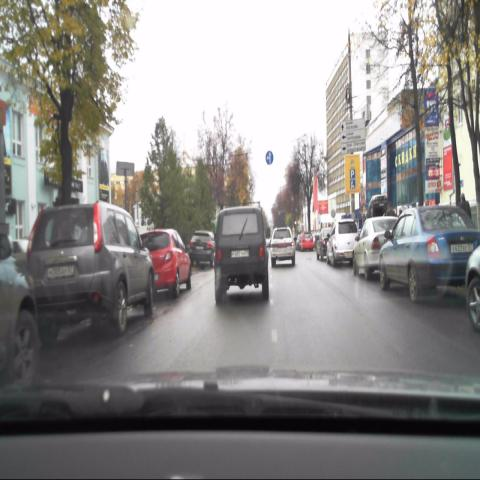4_1_5: (265, 150, 274, 165)
6_4: (349, 167, 356, 178)
